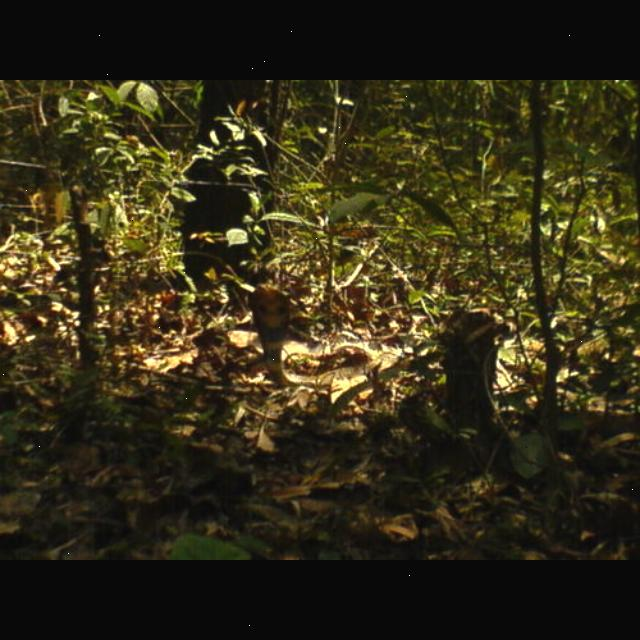snake: (232, 274, 310, 410)
